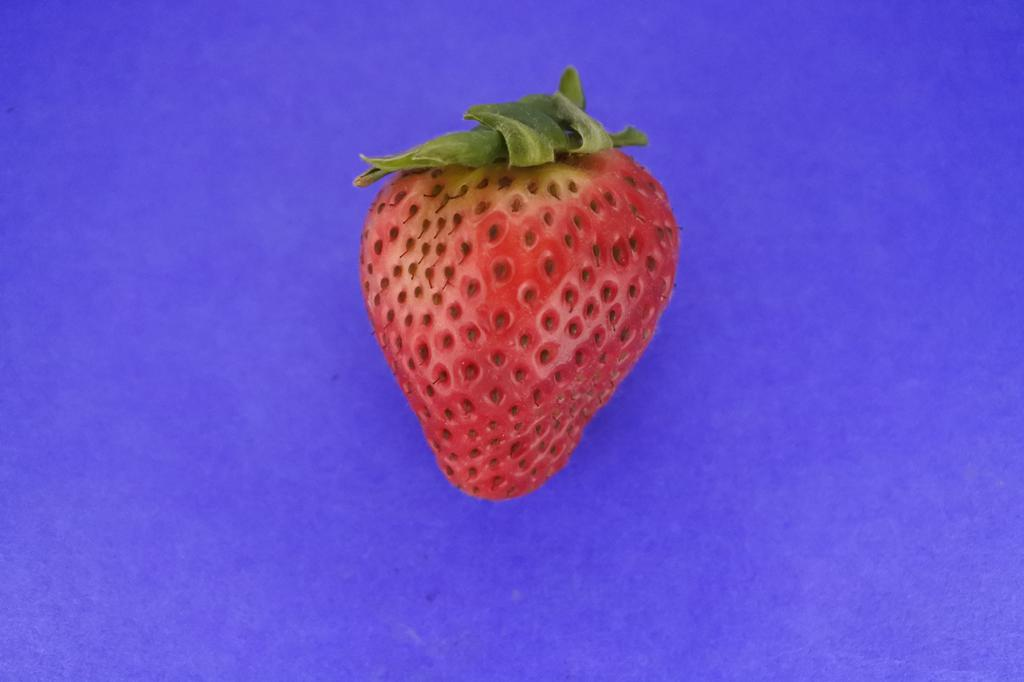red strawberry: (356, 65, 679, 502)
